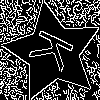K: (28, 27, 84, 78)
